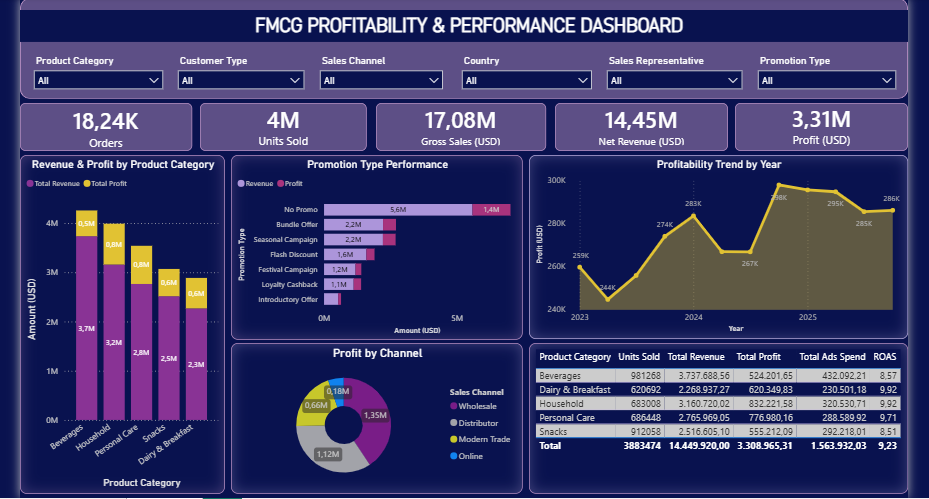

The page's visual inventory and layout, read from the dashboard file:
{"tool":"powerbi","page":{"name":"Page 1","canvas":[1280,720],"ordinal":0},"visuals":[{"type":"shape","box":[0,0,1278.7,145.4],"z":0},{"type":"cardVisual","title":"Total Order","fields":{"Data":["Count(Sheet1.Order_ID)"]},"box":[0,151.2,247.7,69.1],"z":1000},{"type":"columnChart","title":"Revenue & Profit by Product Category","fields":{"Category":["Sheet1.Product_Category"],"Y":["Sum(Sheet1.Net_Revenue_USD)","Sum(Sheet1.Profit_USD)"]},"box":[0,226.1,308.2,488.2],"z":2000},{"type":"barChart","title":"Promotion Type Performance","fields":{"Y":["Sum(Sheet1.Net_Revenue_USD)","Sum(Sheet1.Profit_USD)"],"Category":["Sheet1.Promotion_Type"]},"box":[318.2,224.6,406.1,266.4],"z":3000},{"type":"lineChart","title":"Profitability Trend by Year","fields":{"Category":["Sheet1.Order_Date.Variation.Date Hierarchy.Year","Sheet1.Order_Date.Variation.Date Hierarchy.Quarter"],"Y":["Sum(Sheet1.Profit_USD)"]},"box":[730.1,226.1,548.6,265],"z":4000},{"type":"donutChart","title":"Profit by Channel","fields":{"Category":["Sheet1.Sales_Channel"],"Y":["Sum(Sheet1.Profit_USD)"]},"box":[318.2,496.8,406.1,217.4],"z":5000},{"type":"tableEx","fields":{"Values":["Sheet1.Product_Category","Sum(Sheet1.Units_Sold)","Sum(Sheet1.Net_Revenue_USD)","Sum(Sheet1.Profit_USD)","Sum(Sheet1.Marketing_Spend_USD)","Avg(Sheet1.ROAS)"]},"box":[730.1,496.8,548.6,217.4],"z":6000},{"type":"cardVisual","title":"Total Order","fields":{"Data":["Sum(Sheet1.Units_Sold)"]},"box":[259.2,151.2,240.5,69.1],"z":7000},{"type":"cardVisual","title":"Total Order","fields":{"Data":["Sum(Sheet1.Gross_Sales_USD)"]},"box":[512.6,151.2,244.8,69.1],"z":8000},{"type":"cardVisual","title":"Total Order","fields":{"Data":["Sum(Sheet1.Net_Revenue_USD)"]},"box":[770.4,151.2,249.1,69.1],"z":9000},{"type":"cardVisual","title":"Total Order","fields":{"Data":["Sum(Sheet1.Profit_USD)"]},"box":[1029.6,151.2,249.1,69.1],"z":10000},{"type":"slicer","fields":{"Values":["Sheet1.Product_Category"]},"box":[10.1,76.3,205.9,67.7],"z":11000},{"type":"slicer","fields":{"Values":["Sheet1.Customer_Type"]},"box":[217.4,76.3,201.6,67.7],"z":12000},{"type":"slicer","fields":{"Values":["Sheet1.Sales_Channel"]},"box":[421.9,76.3,197.3,67.7],"z":13000},{"type":"slicer","fields":{"Values":["Sheet1.Country"]},"box":[626.4,76.3,207.4,67.7],"z":14000},{"type":"slicer","fields":{"Values":["Sheet1.Sales_Person"]},"box":[835.2,76.3,214.6,67.7],"z":15000},{"type":"slicer","fields":{"Values":["Sheet1.Promotion_Type"]},"box":[1052.6,76.3,218.9,67.7],"z":16000},{"type":"textbox","box":[0,17.3,1278.7,46.1],"z":17000}]}

Visuals, with their boxes on the page's 1280x720 design canvas (x1, y1, x2, y2). These are canvas units, not pixel positions in the 929x499 screenshot, which may show the page scaled, cropped or inside an application window:
shape: <bbox>0, 0, 1279, 145</bbox>
"Total Order" cardVisual: <bbox>0, 151, 248, 220</bbox>
"Revenue & Profit by Product Category" columnChart: <bbox>0, 226, 308, 714</bbox>
"Promotion Type Performance" barChart: <bbox>318, 225, 724, 491</bbox>
"Profitability Trend by Year" lineChart: <bbox>730, 226, 1279, 491</bbox>
"Profit by Channel" donutChart: <bbox>318, 497, 724, 714</bbox>
tableEx - Sheet1.Product_Category x Sum(Sheet1.Units_Sold): <bbox>730, 497, 1279, 714</bbox>
"Total Order" cardVisual: <bbox>259, 151, 500, 220</bbox>
"Total Order" cardVisual: <bbox>513, 151, 757, 220</bbox>
"Total Order" cardVisual: <bbox>770, 151, 1020, 220</bbox>
"Total Order" cardVisual: <bbox>1030, 151, 1279, 220</bbox>
slicer - Sheet1.Product_Category: <bbox>10, 76, 216, 144</bbox>
slicer - Sheet1.Customer_Type: <bbox>217, 76, 419, 144</bbox>
slicer - Sheet1.Sales_Channel: <bbox>422, 76, 619, 144</bbox>
slicer - Sheet1.Country: <bbox>626, 76, 834, 144</bbox>
slicer - Sheet1.Sales_Person: <bbox>835, 76, 1050, 144</bbox>
slicer - Sheet1.Promotion_Type: <bbox>1053, 76, 1272, 144</bbox>
textbox: <bbox>0, 17, 1279, 63</bbox>
